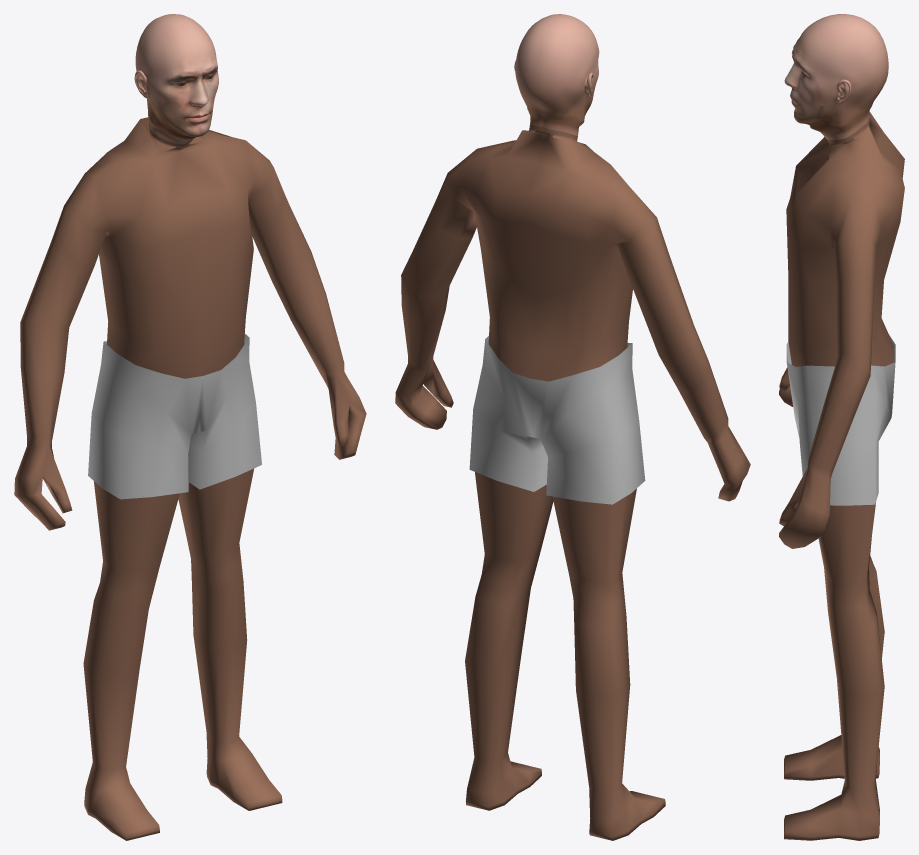
File: baseModelMale001.fbx
3 views of the same model, side by side, from view 1: azimuth 30°, elevation 25°; view 2: azimuth 150°, elevation 25°; view 3: azimuth 270°, elevation 25° (orthographic).
Visible parts, largest first — view 1: Cube, Cube.001; view 2: Cube, Cube.001; view 3: Cube, Cube.001.
Part boxes in pixels (bbox=[...]): Cube: bbox=[14, 14, 366, 840]; Cube.001: bbox=[88, 333, 261, 499]; Cube: bbox=[395, 14, 750, 840]; Cube.001: bbox=[469, 336, 645, 504]; Cube: bbox=[779, 14, 904, 840]; Cube.001: bbox=[786, 335, 895, 505].
Bounding box in the file's own units: 739 × 1630 × 237.
